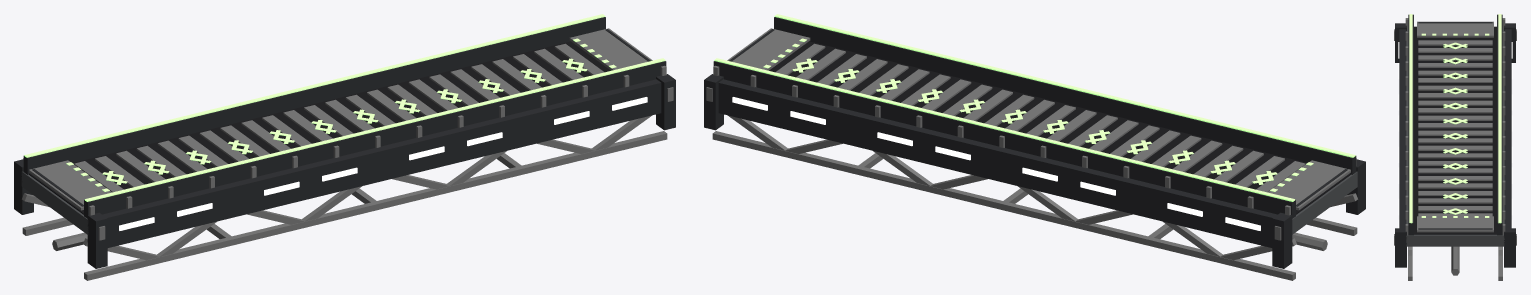
File: Deck_Conveyor_Belt_v4_14.glb
The picture shows the model from 3 angles, left to right: view 1: azimuth 30°, elevation 25°; view 2: azimuth 150°, elevation 25°; view 3: azimuth 270°, elevation 25°; orthographic projection. The views are drawn at different scales.
Visible parts, largest first — view 1: Deck_Conveyor_Belt_v4_14, Treads, TreadsRev; view 2: Deck_Conveyor_Belt_v4_14, Treads, TreadsRev; view 3: Deck_Conveyor_Belt_v4_14, Treads, TreadsRev.
Part boxes in pixels (<box>): Deck_Conveyor_Belt_v4_14: <box>14,14,675,280</box>; Treads: <box>74,44,604,192</box>; TreadsRev: <box>76,44,602,191</box>; Deck_Conveyor_Belt_v4_14: <box>704,14,1365,280</box>; Treads: <box>775,43,1305,192</box>; TreadsRev: <box>776,44,1302,191</box>; Deck_Conveyor_Belt_v4_14: <box>1394,14,1516,280</box>; Treads: <box>1418,40,1492,216</box>; TreadsRev: <box>1418,40,1492,216</box>.
Size of the model in its own units: 14.06 by 1.83 by 3.48.
